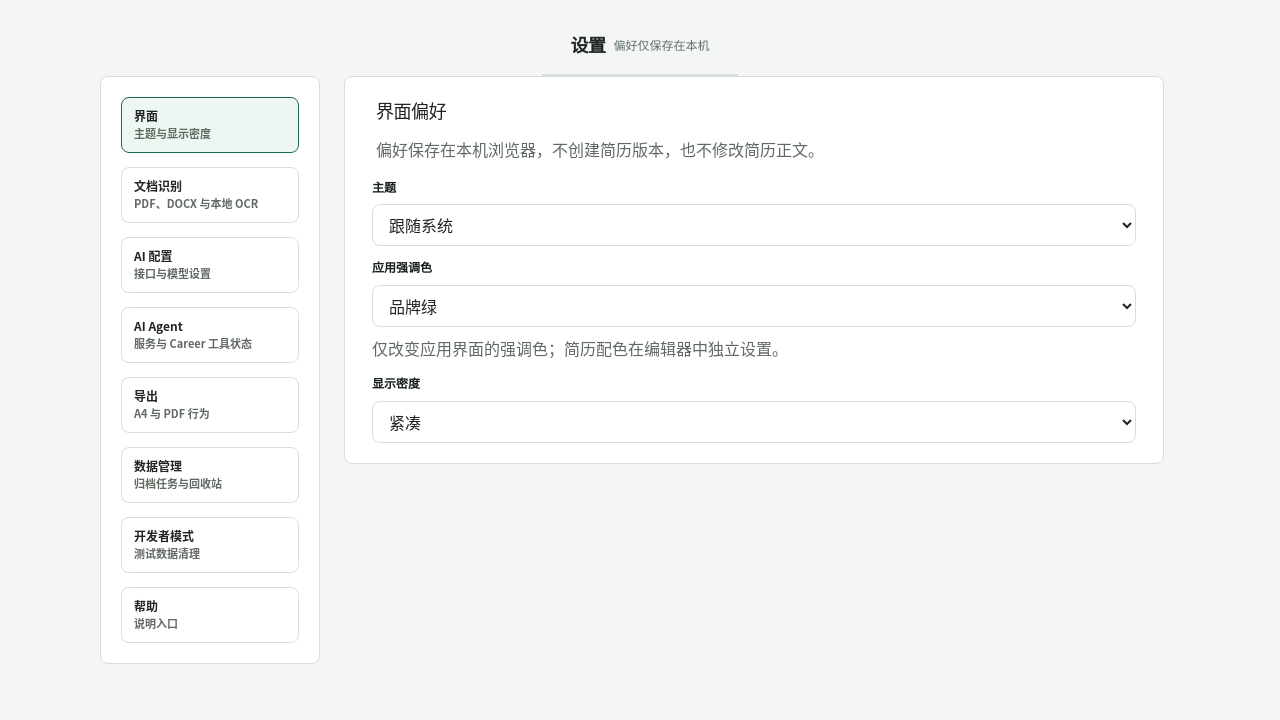
it: P4.6d AI runtime control plane › shows the current model response latency without changing runtime state
The image size is (1280, 720).
Step 1. Click the button "AI 配置 接口与模型设置" → (210, 265), box [121,237,299,293]
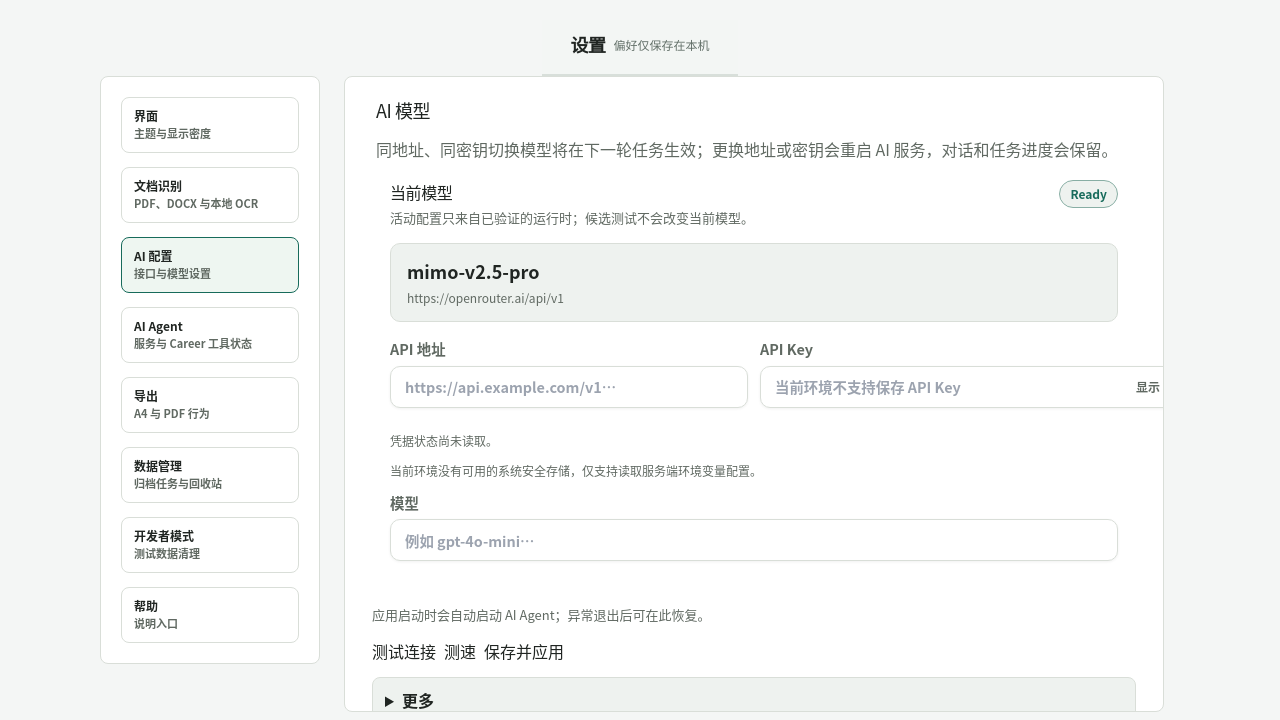
Step 2. Click the button "测速" → (460, 651), box [444,639,476,663]
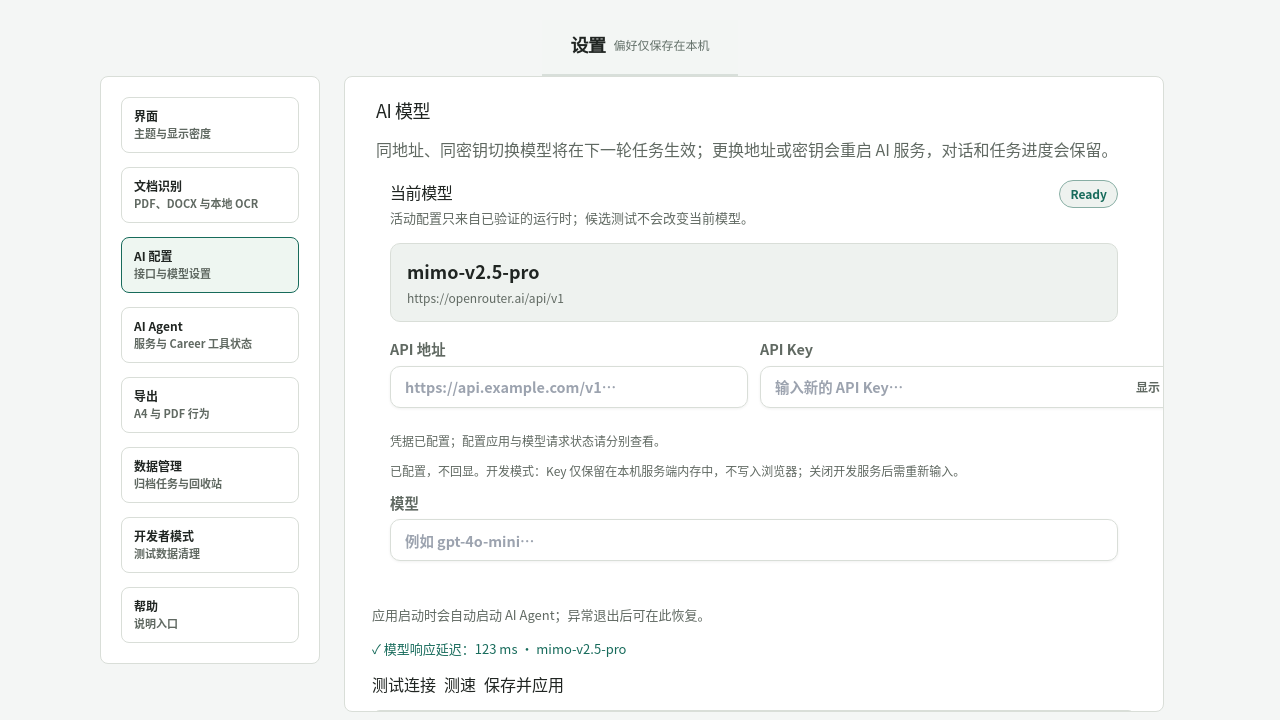
Result: the text "✓ 模型响应延迟：123 ms · mimo-v2.5-pro" is shown at [372,639,626,658]
